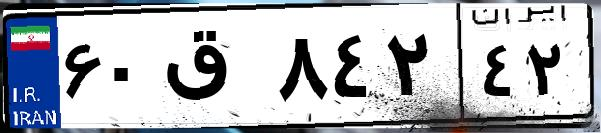0: (110, 28, 158, 98)
2: (385, 28, 445, 110), (525, 38, 570, 115)
4: (330, 28, 385, 110), (475, 38, 525, 113)
6: (57, 26, 110, 100)
8: (270, 28, 330, 110)
ق: (158, 20, 270, 120)
